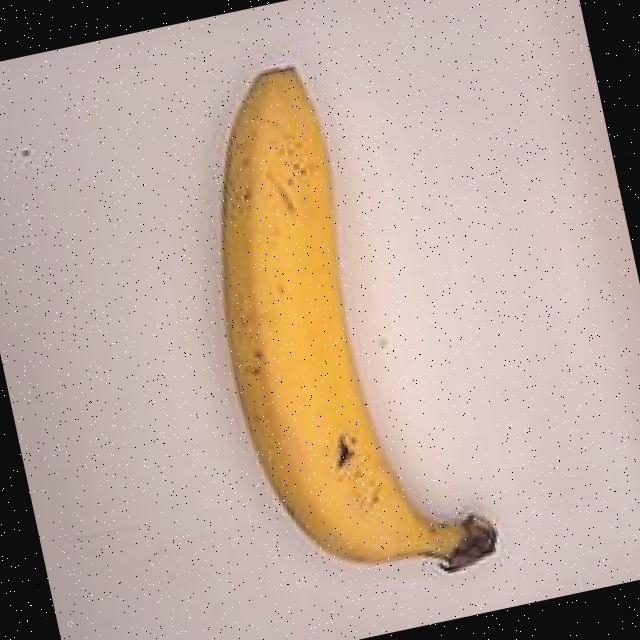Ripe: (134, 15, 540, 638)
